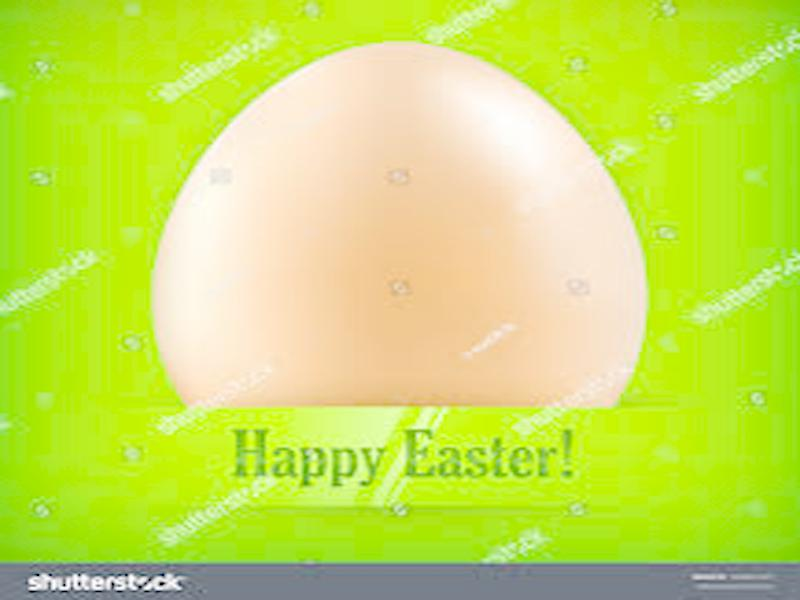Eggs: (155, 41, 645, 406)
